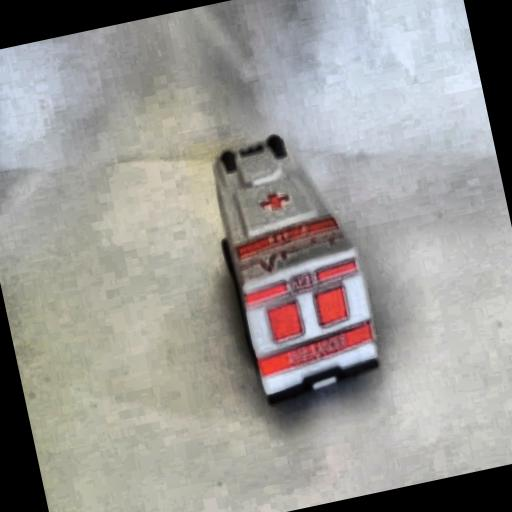ambulance: (201, 122, 384, 407)
